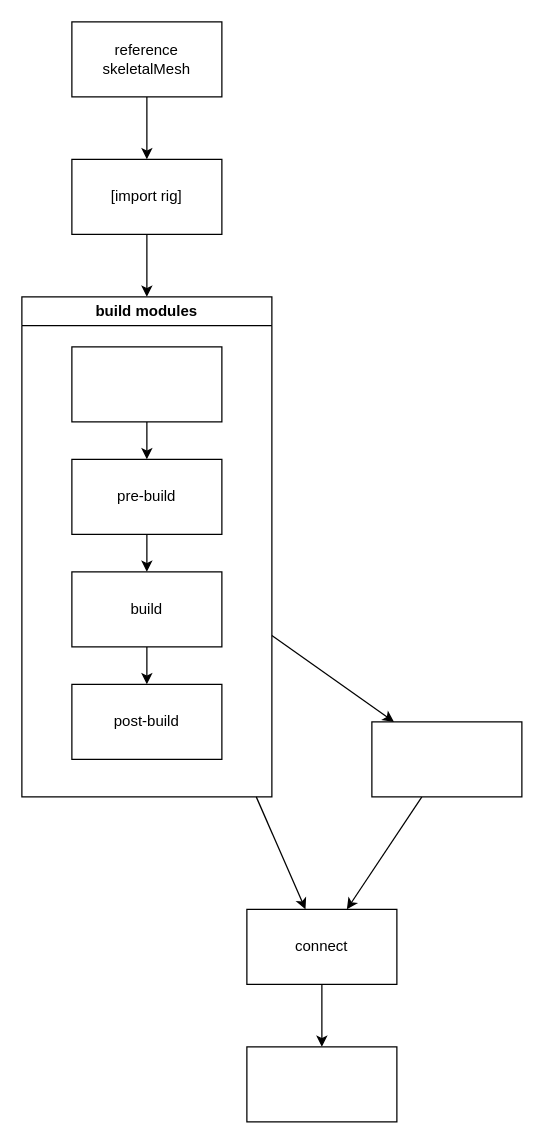
Some shapes in this 544 by 1144 pixel diagram are drawn without their labels. The centre of each missing label's shape, as x and y in pixels:
"[build masters]" belongs at [446,759].
"export rig" belongs at [321,1084].
"guide" belongs at [146,384].
